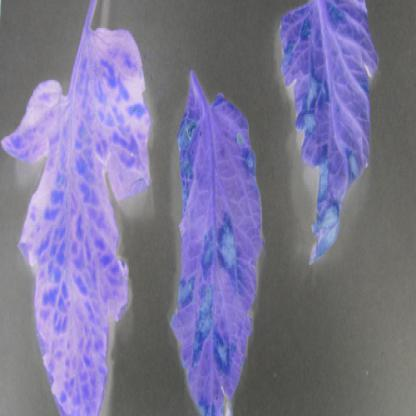Tomato mold leaf: (6, 18, 152, 415), (165, 86, 265, 415), (280, 1, 382, 253)
